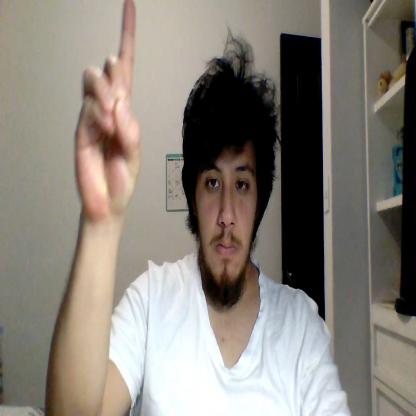D: (75, 0, 139, 215)
